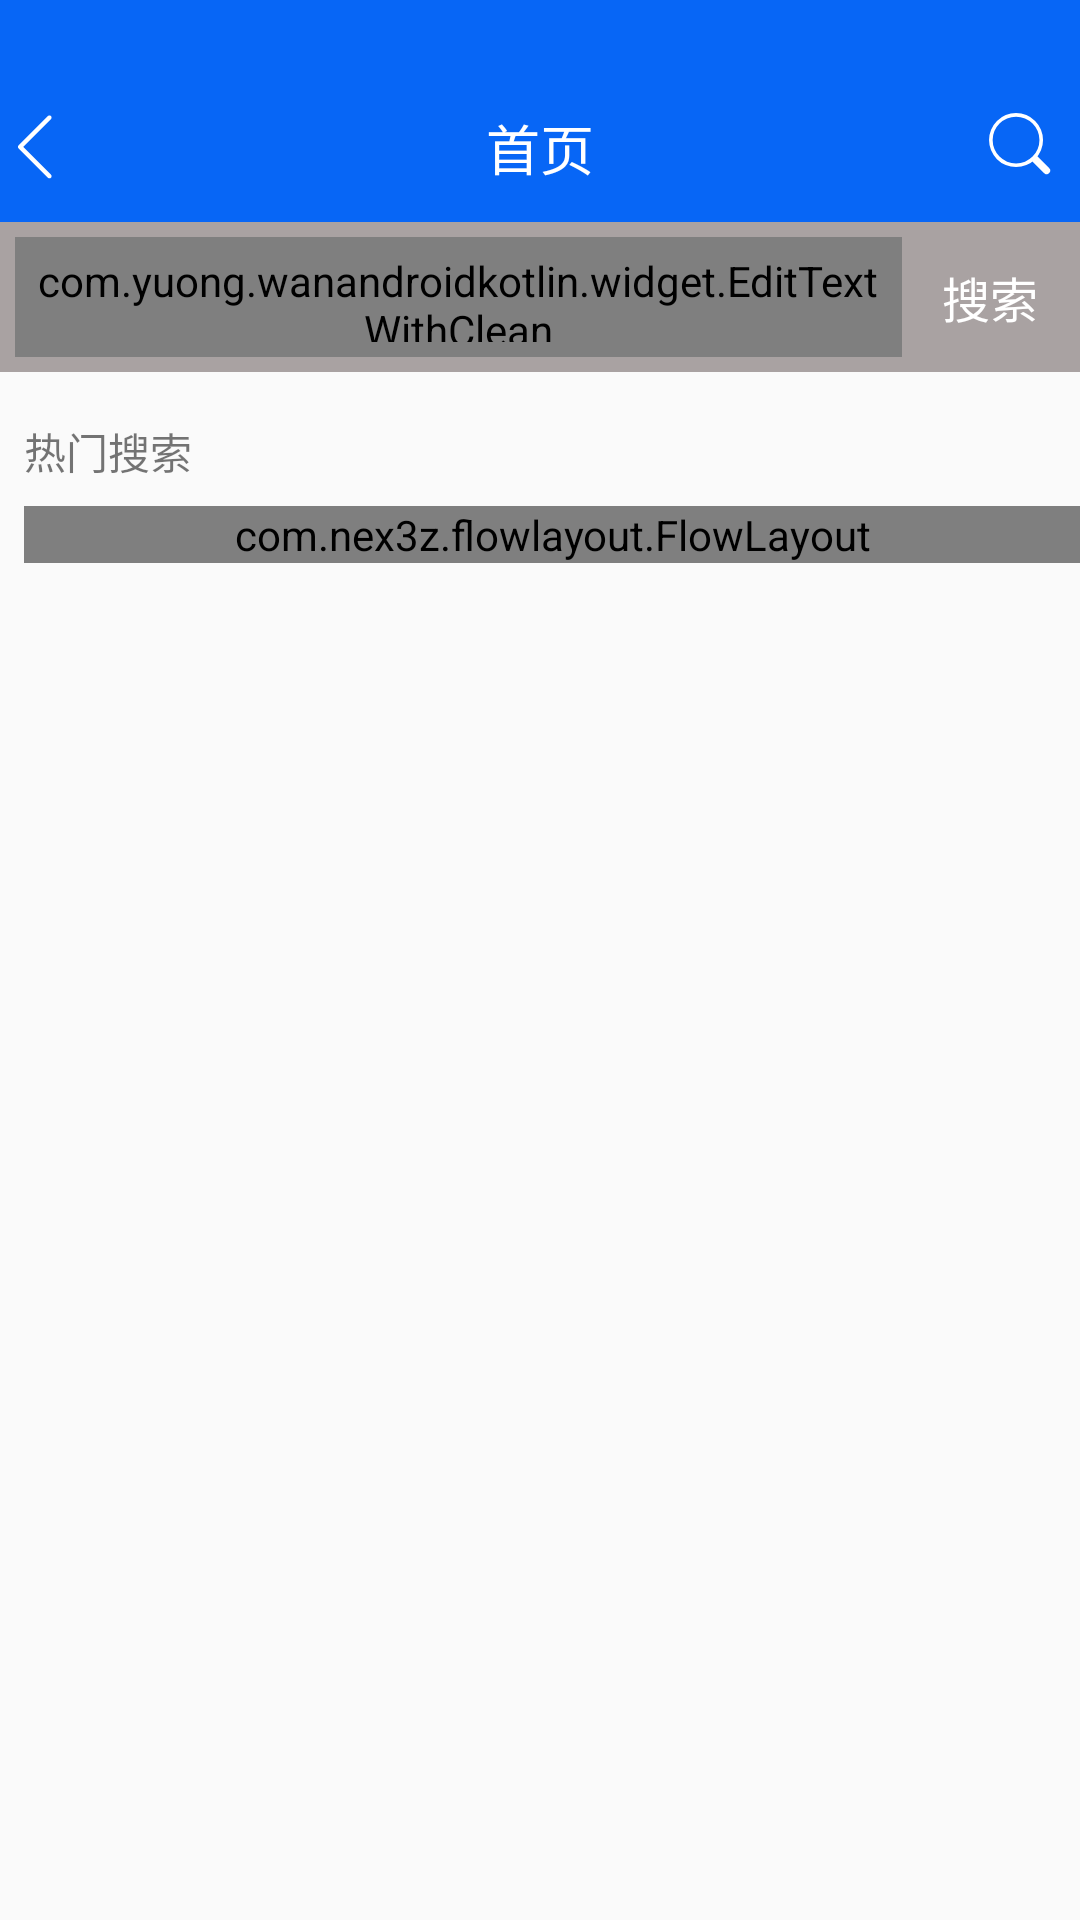

Point at icon controls on the screen. Image size 1080*1920, points as [x,y].
back: [35,147]
search: [1020,144]
